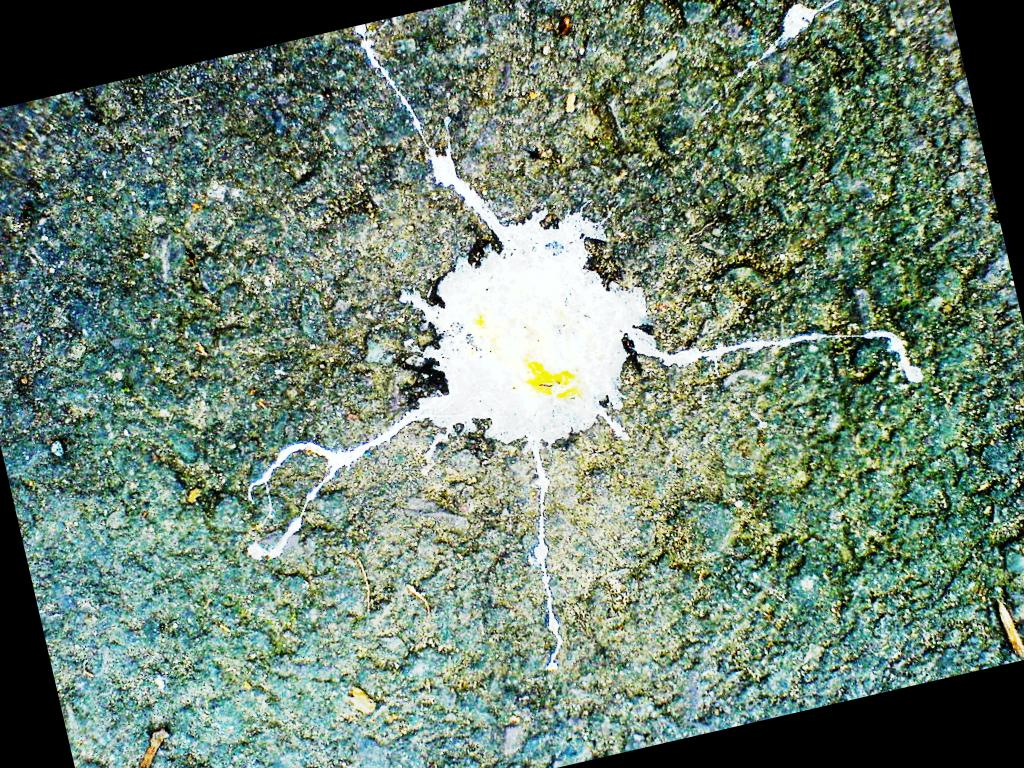Bird Poop: (251, 147, 827, 670), (356, 25, 435, 157), (745, 0, 841, 70), (864, 332, 923, 383)
